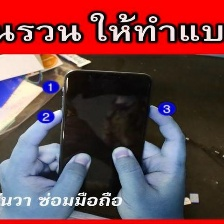phone: (49, 64, 162, 223)
